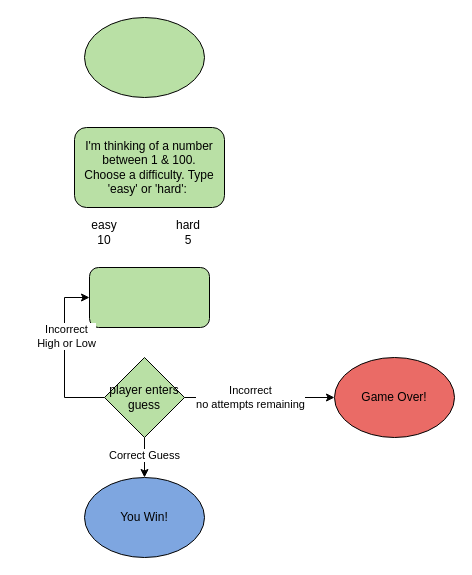
Image size: 472x575. Some labels were removed from this diagram. Here are the shapes that lost their labels. From the top down, the centre of each, then its label:
At point (144, 57): "Welcome to the number guessing game".
At point (149, 297): "You have ## attempts remaining to guess the number. Make a guess:".
